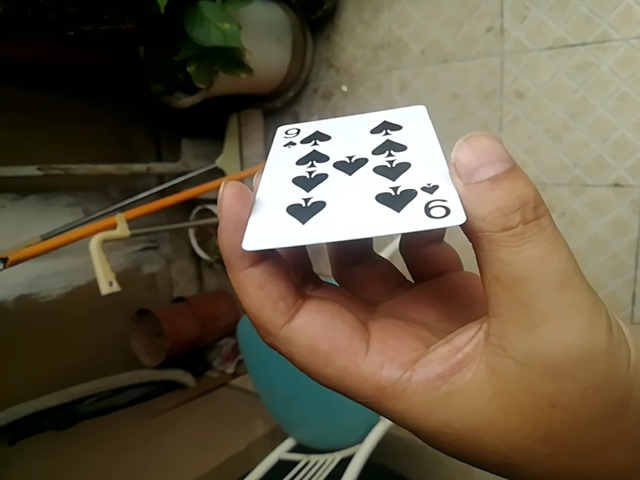ht 9: (240, 107, 460, 254)
